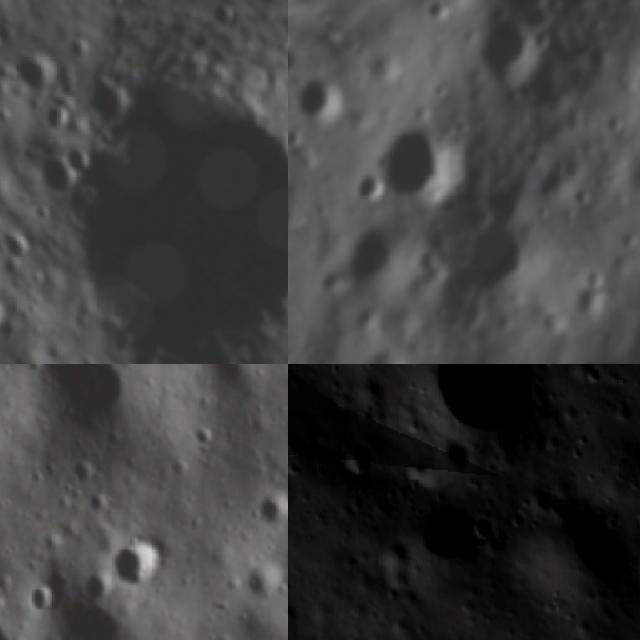crater: (40, 0, 288, 364), (467, 199, 640, 364), (419, 199, 563, 343), (501, 463, 636, 614), (388, 364, 557, 472), (447, 0, 567, 118), (358, 111, 476, 228), (321, 210, 426, 316), (34, 364, 154, 447), (399, 484, 487, 576), (288, 57, 366, 148), (468, 0, 581, 37), (105, 531, 170, 593), (201, 364, 275, 403), (239, 551, 288, 605), (251, 482, 288, 533), (22, 582, 61, 622), (628, 518, 640, 630), (619, 57, 640, 120)
